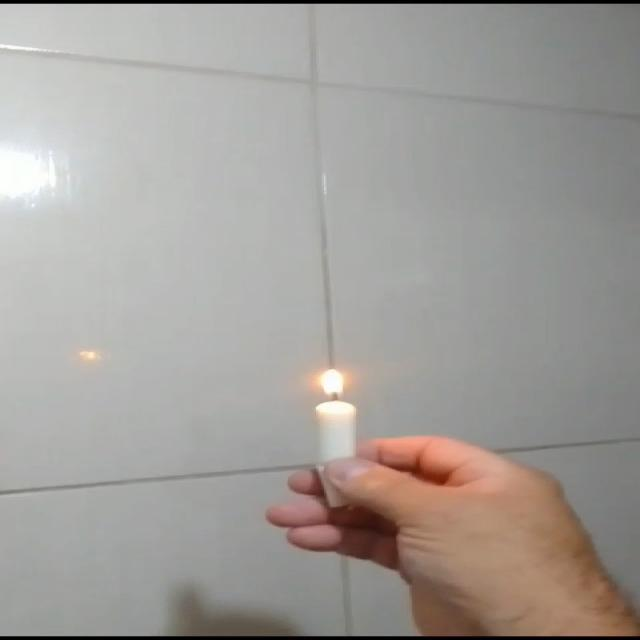fogo-ypXI: (310, 366, 352, 401)
